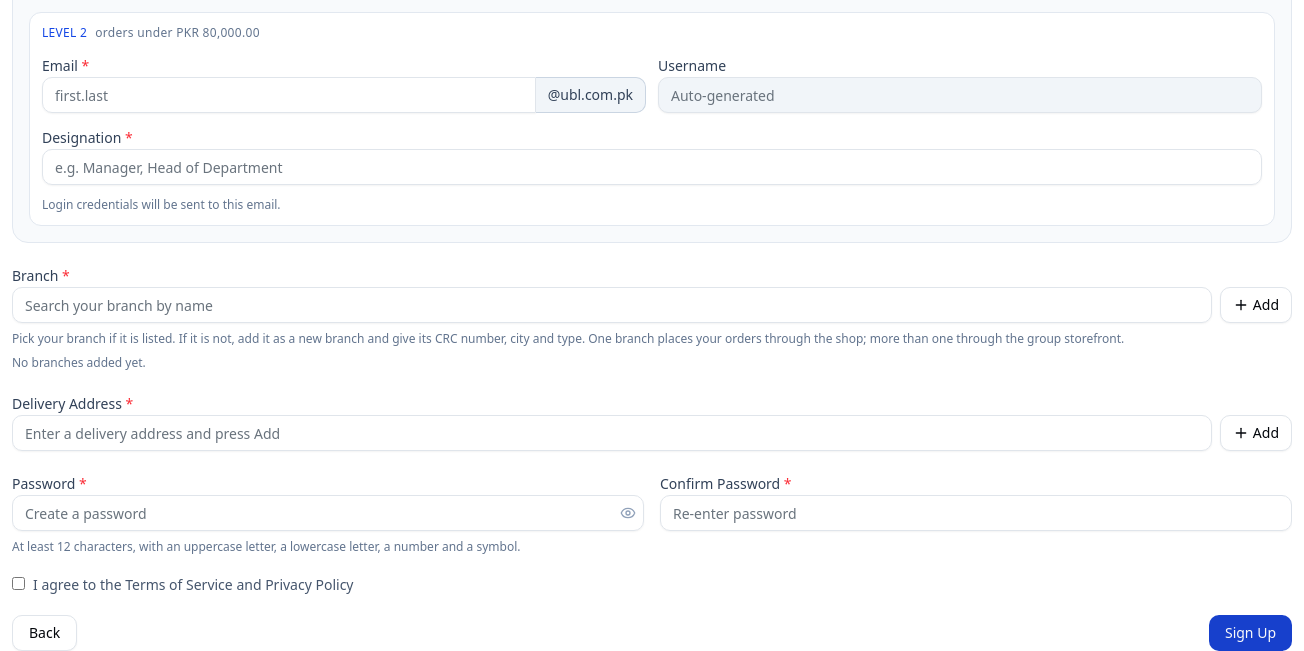
Test case: DepartmentSignupForm › does not send while anything required is missing
(page scrolled)
Click the button "Sign Up": (1250,633) [1209,615,1292,650]
(page scrolled)
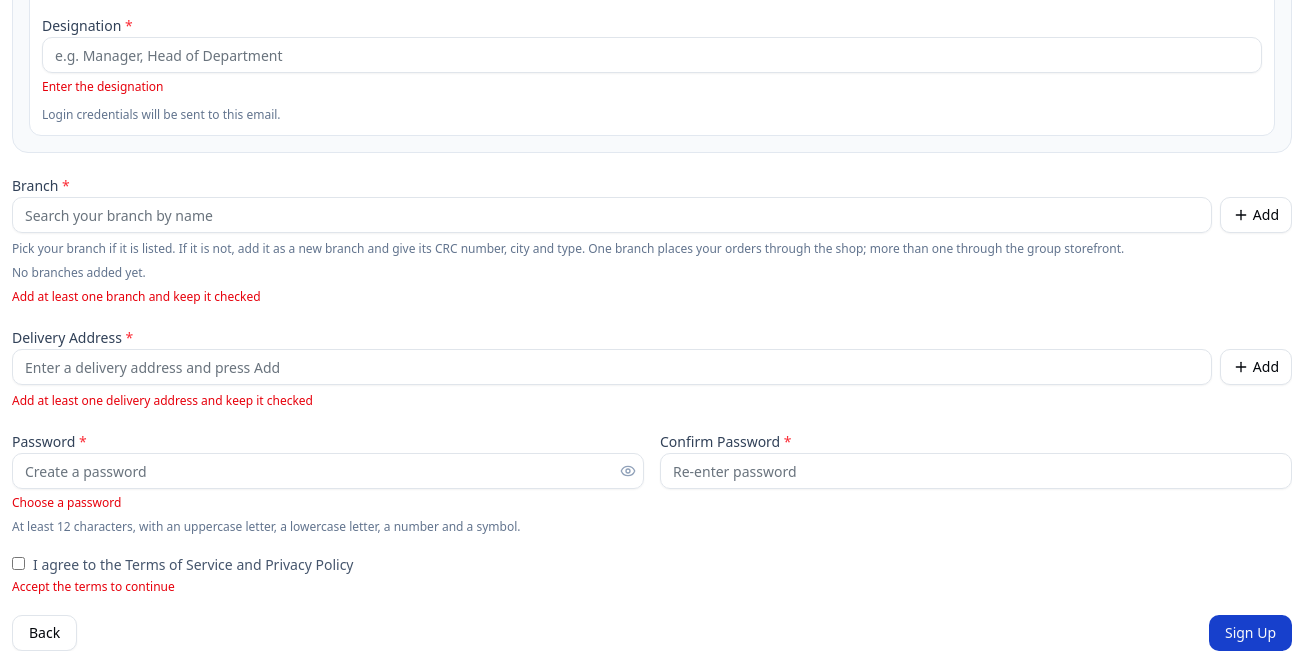
Check: the text "Add at least one branch and keep it checked" is shown, box [12,288,260,305]
Check: the text "Accept the terms to continue" is shown, box [12,578,175,595]
